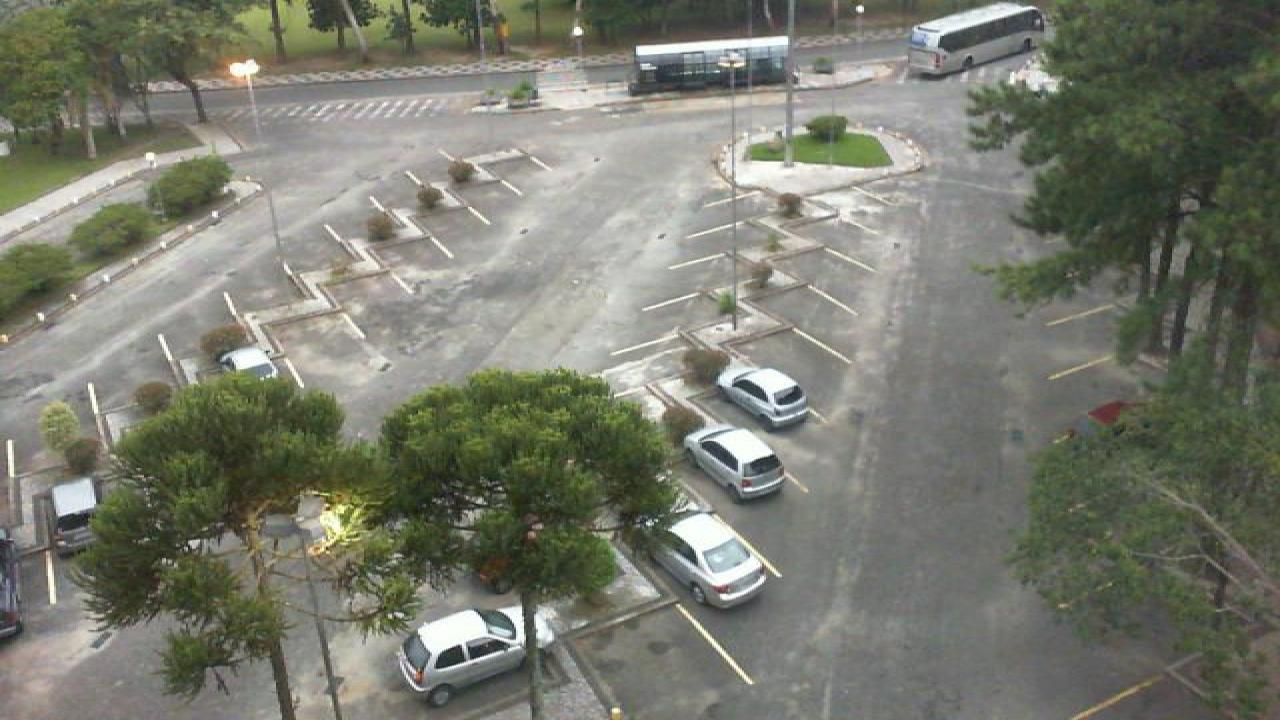Car: (396, 606, 528, 708), (646, 510, 770, 610), (682, 424, 788, 502), (714, 366, 812, 430), (50, 474, 106, 554), (1082, 400, 1158, 437), (0, 536, 24, 642), (218, 344, 280, 385)
